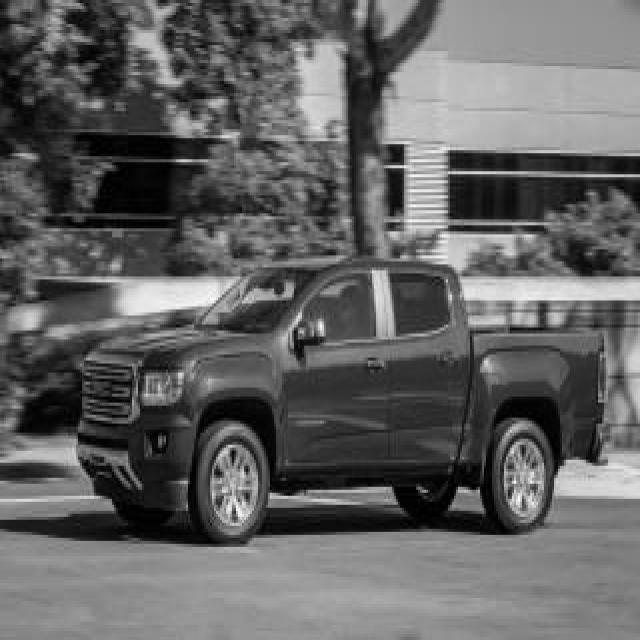Car: (78, 257, 606, 542)
